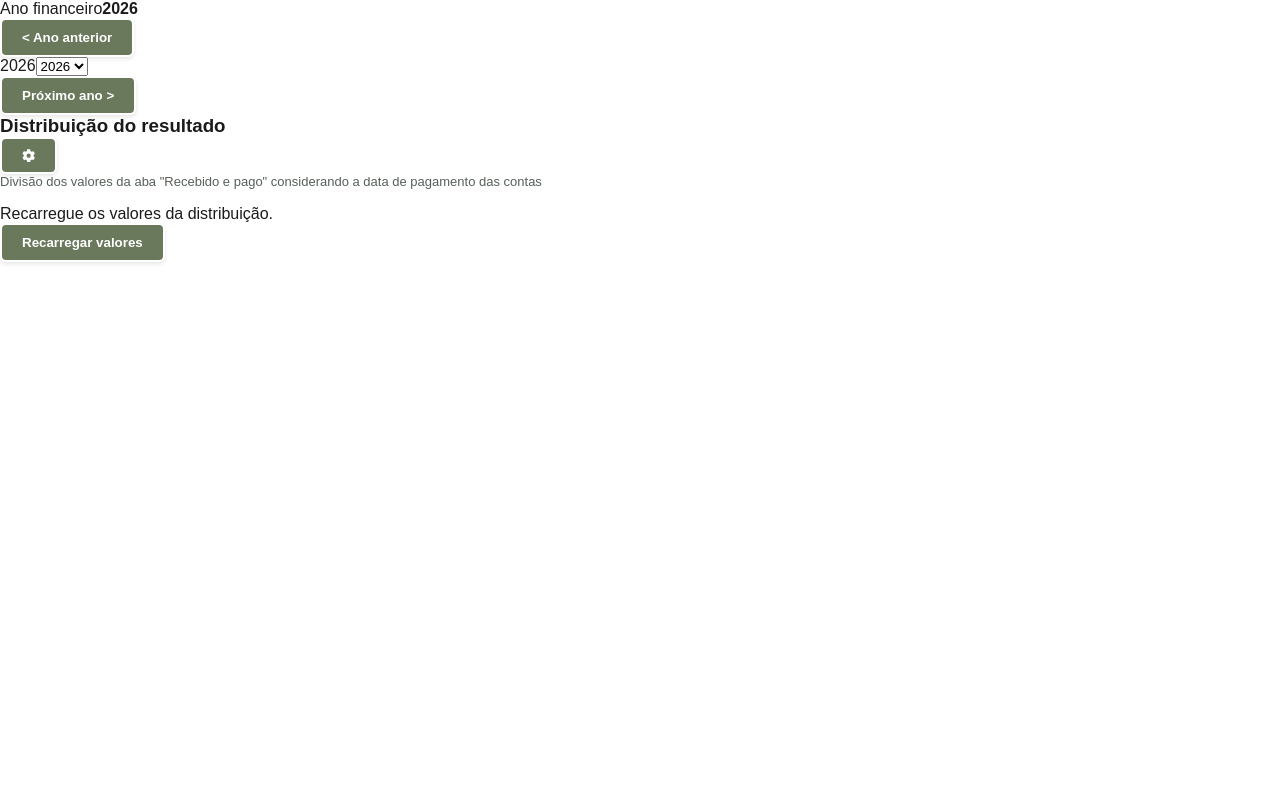
Test: conflito de revisão recarrega configuração sem reaplicar comando automaticamente
Click the button named "Configurar distribuição": [29, 156] box [0,137,57,174]
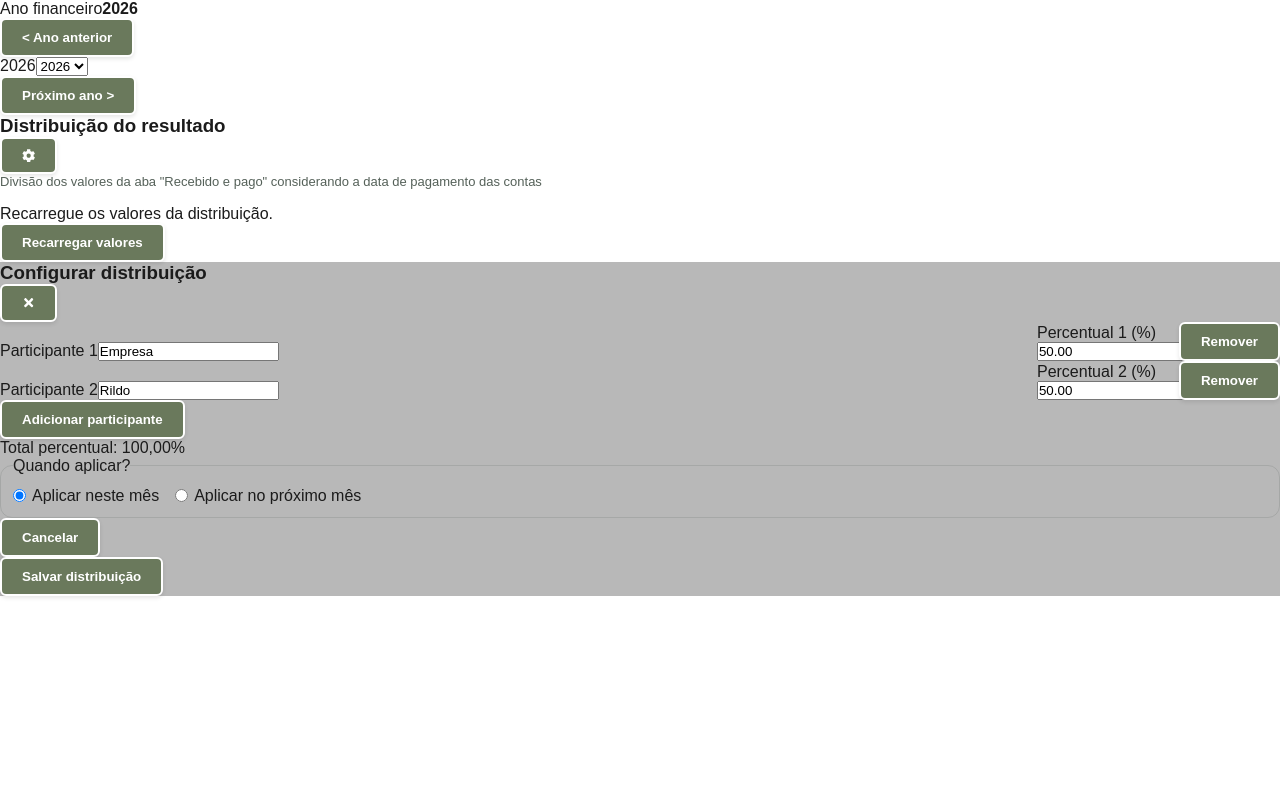
Click the button "Salvar distribuição": [82, 576] box [0,557,163,596]
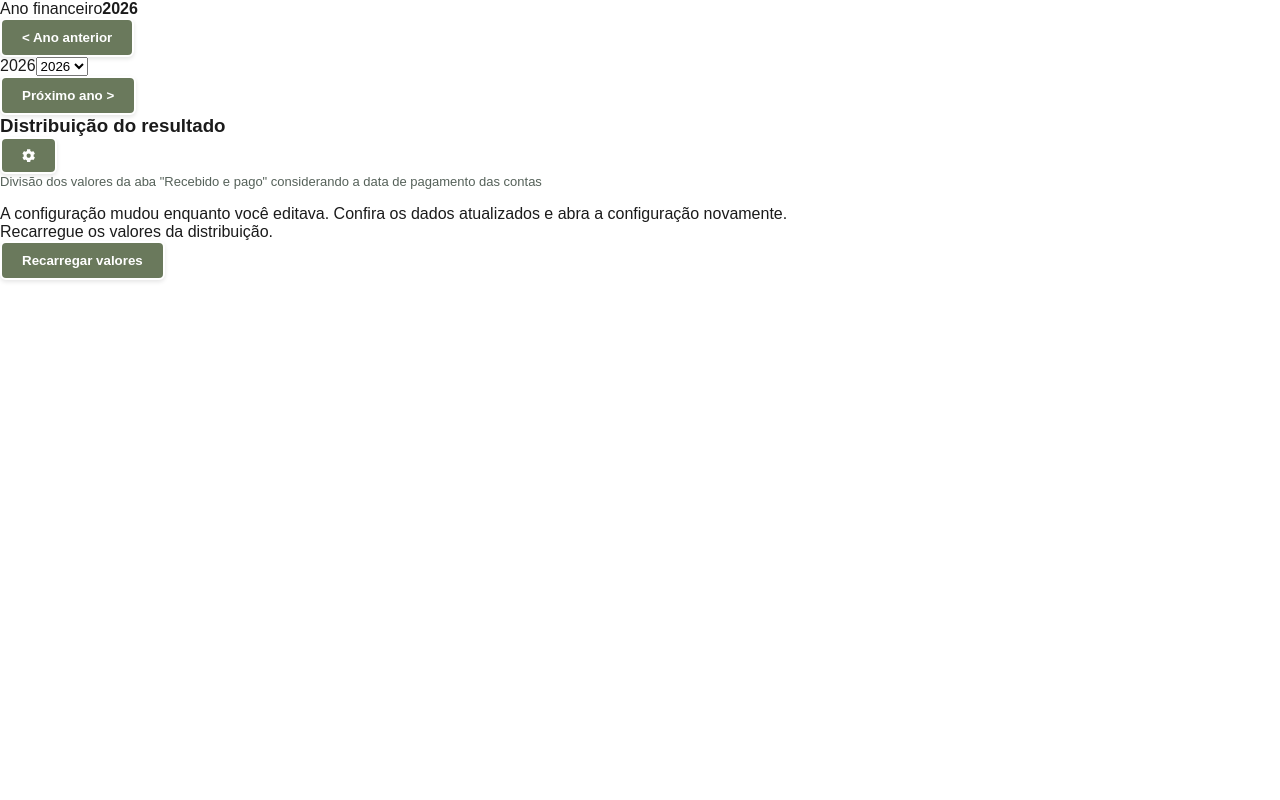
expect the text "A configuração mudou enquanto você editava" is shown: met, box [0,205,787,222]
expect the dialog is gone: met
